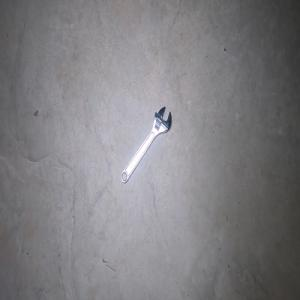Wrench: (120, 106, 172, 183)
